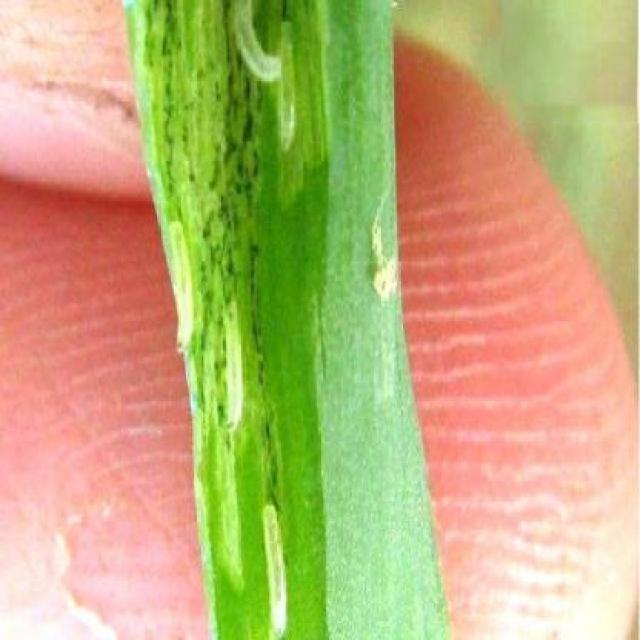whorl-maggot: (254, 498, 295, 640), (232, 0, 282, 100), (272, 10, 306, 148), (221, 292, 250, 440), (171, 216, 197, 366)
